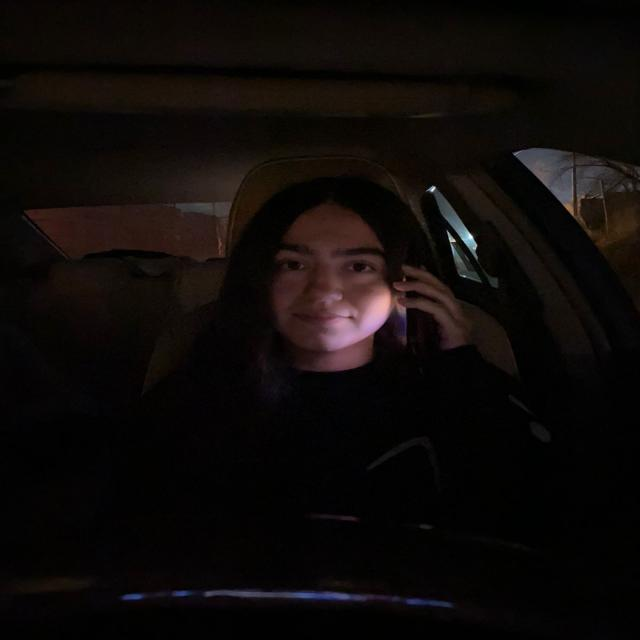mobile: (398, 271, 436, 377)
person: (240, 169, 432, 371)
